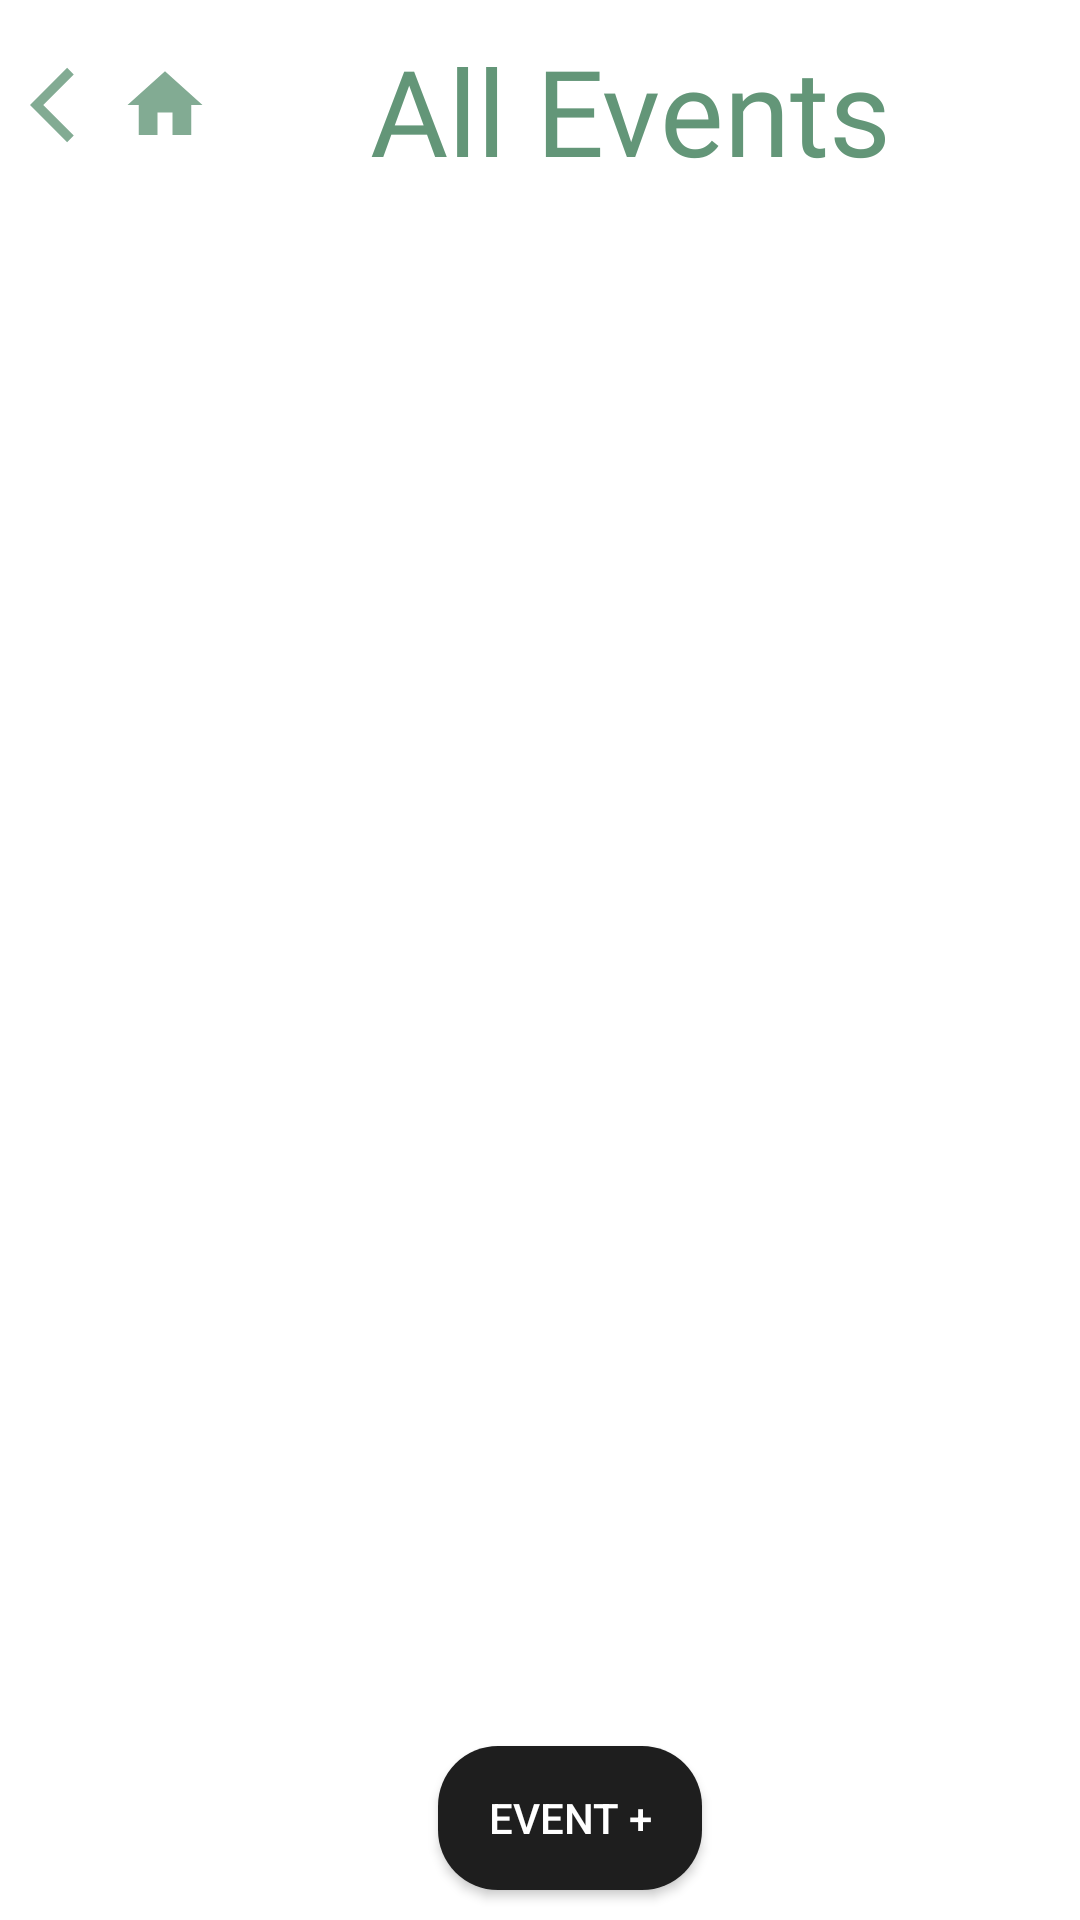

Where to tap for icons on this 1080 × 1920 app screen, as (x,y):
back: (52,105)
home: (165,103)
